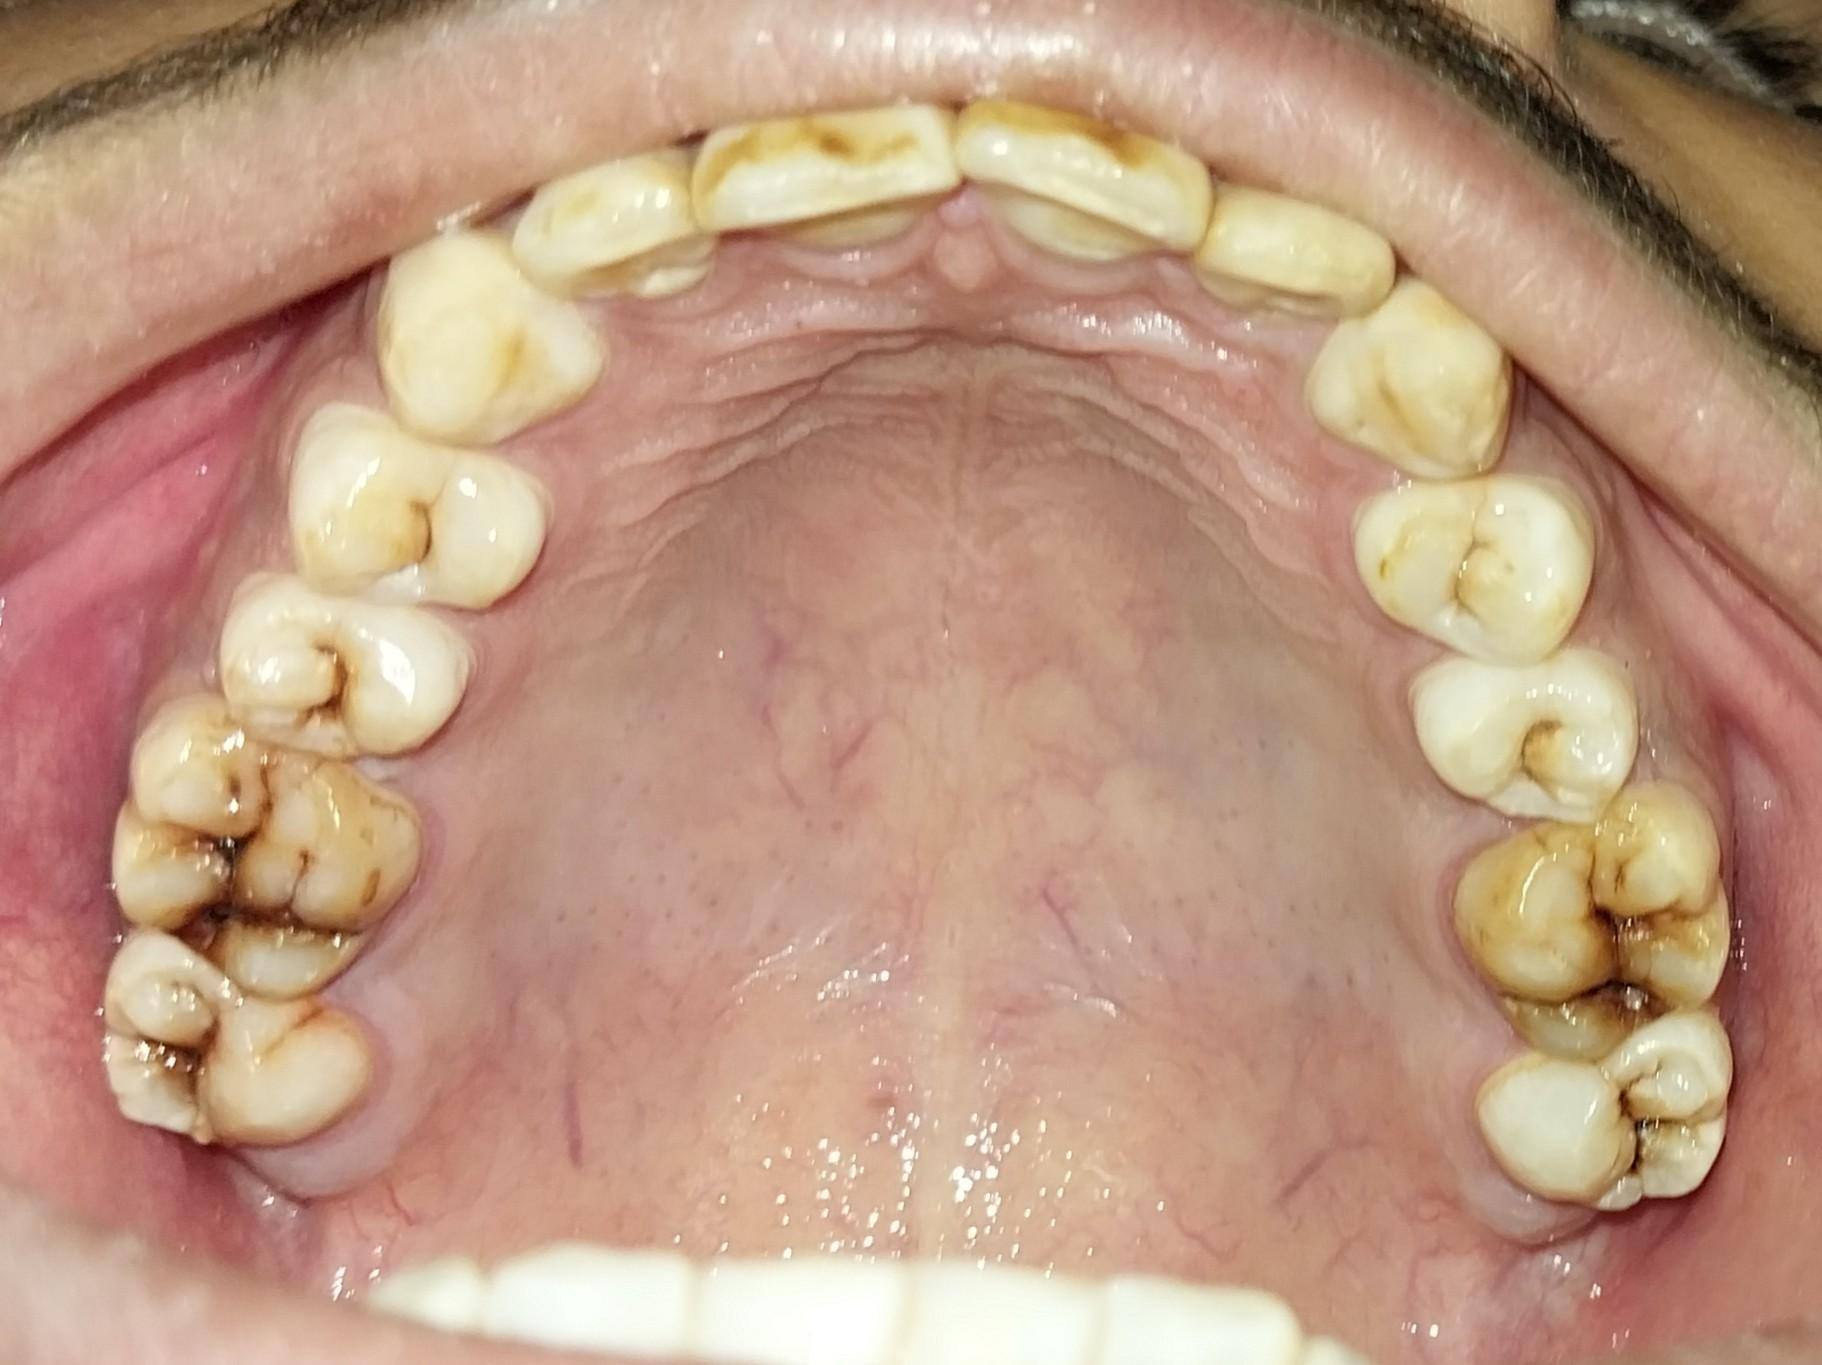D: (106, 704, 412, 1002), (1476, 816, 1729, 1062), (92, 946, 359, 1154), (290, 409, 546, 615), (215, 579, 450, 760), (1482, 1045, 1732, 1210), (1418, 666, 1643, 830)
